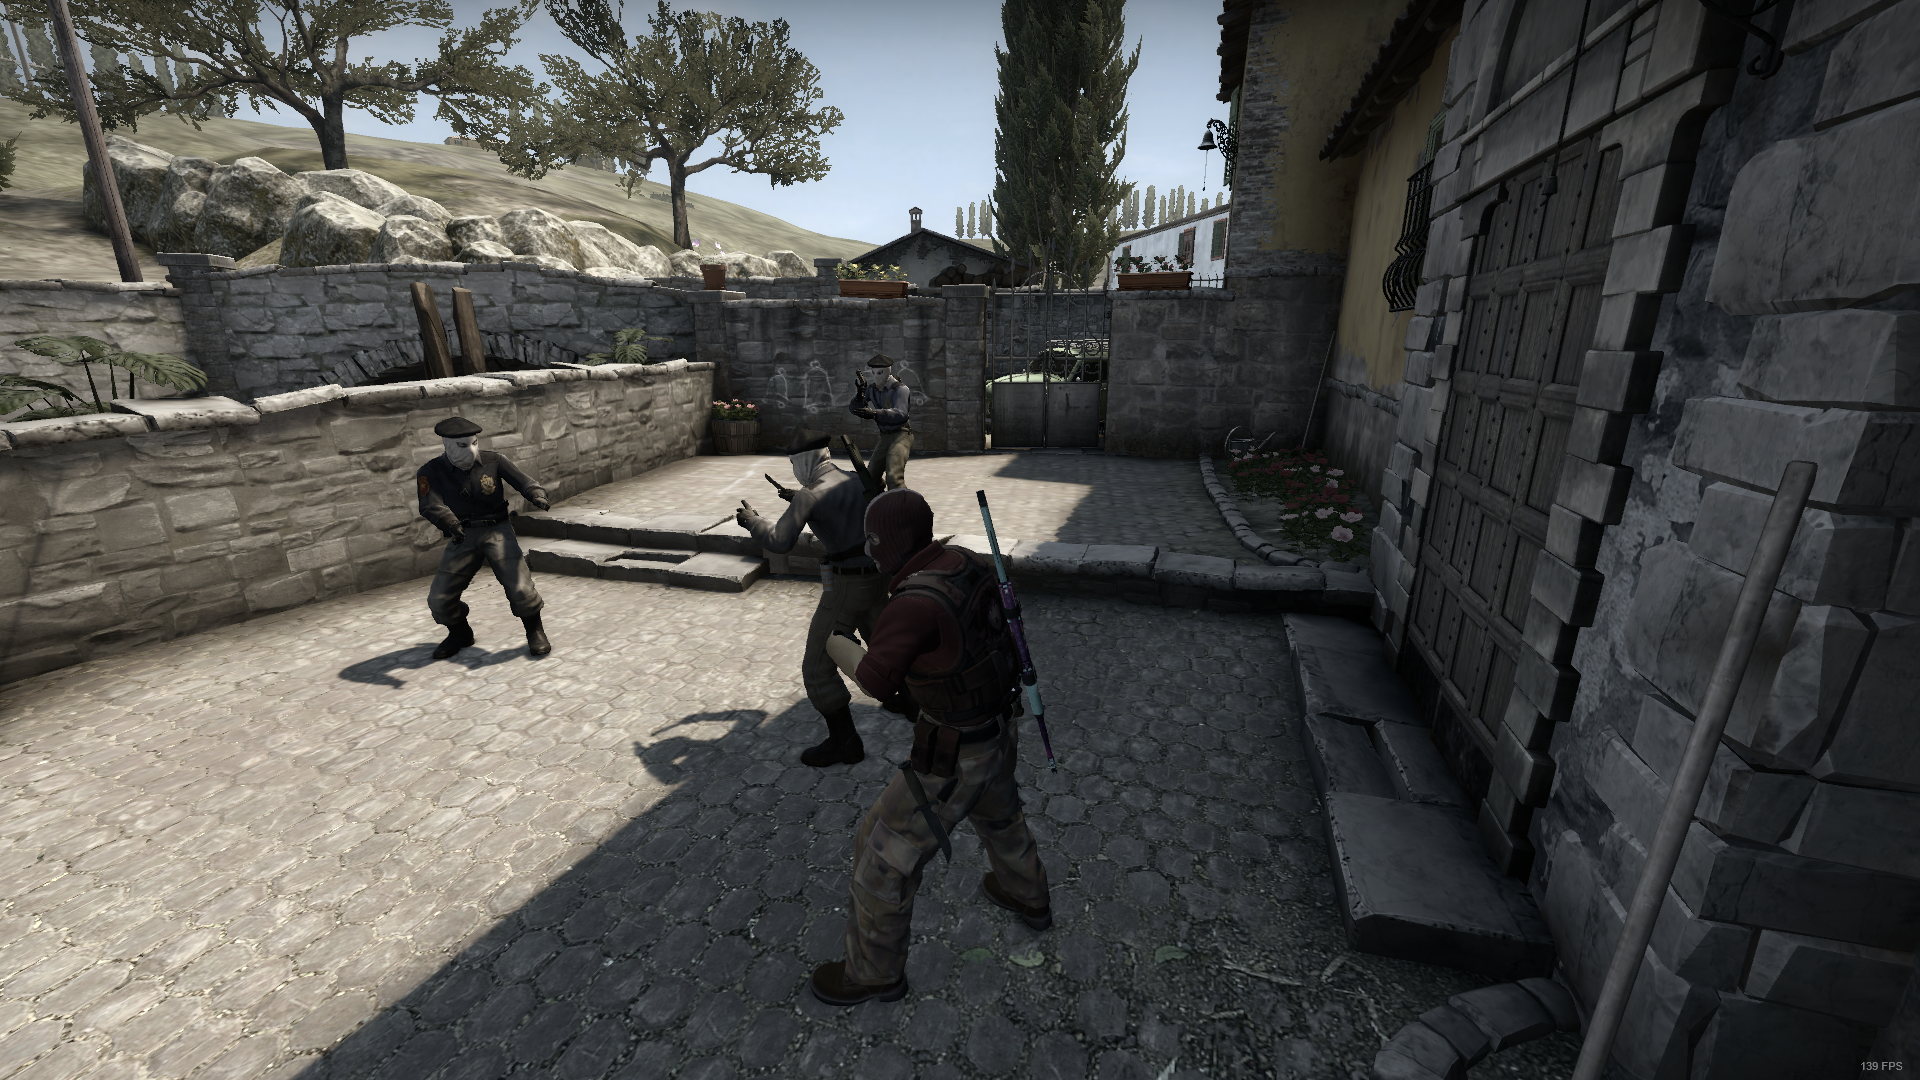t: (732, 426, 923, 778), (409, 413, 562, 655), (851, 353, 920, 496)
